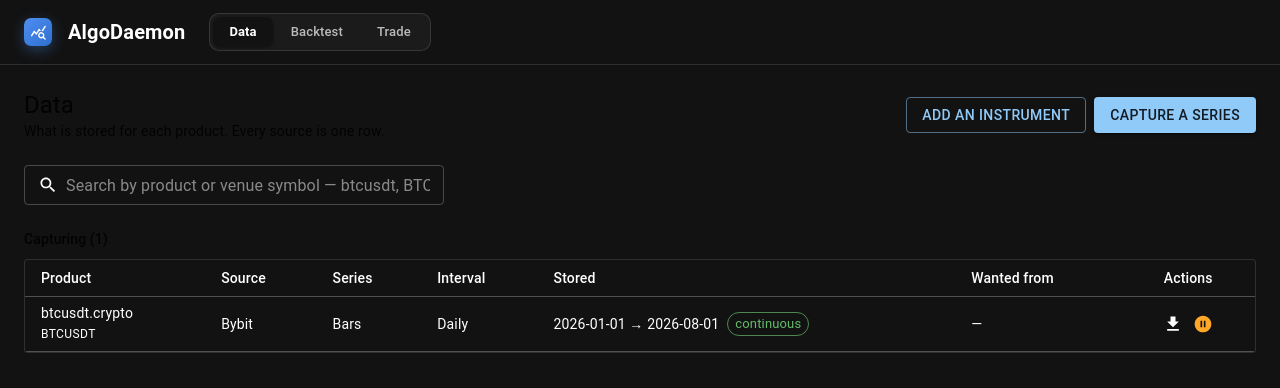
Test case: MarketDataPage search › says so when a search matches nothing rather than looking empty
The width and height of the screenshot is (1280, 388).
In the field with placeholder "Search by product or venue symbol — btcusdt, BTCUSDT…": (255, 185) [66,165,444,205], type "zzz"
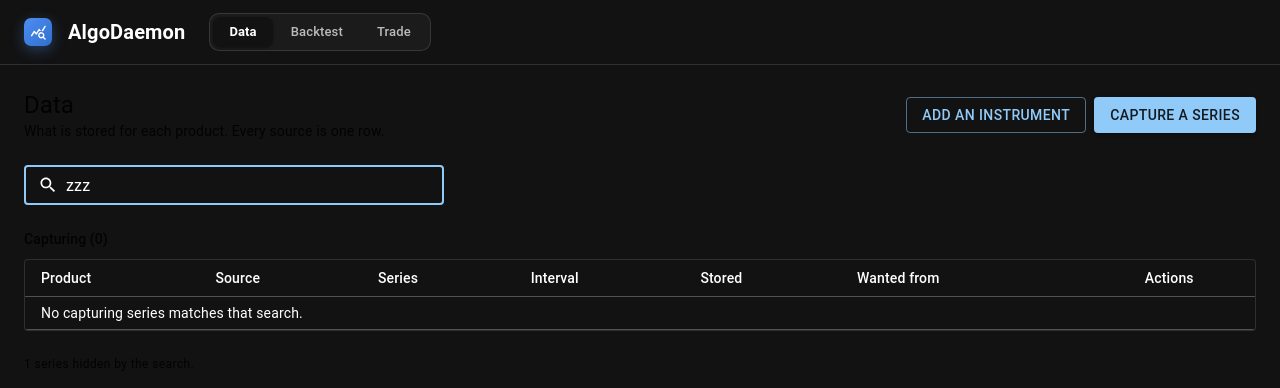
Expected: the text "No capturing series matches that search." is shown, [41,305,303,321]
